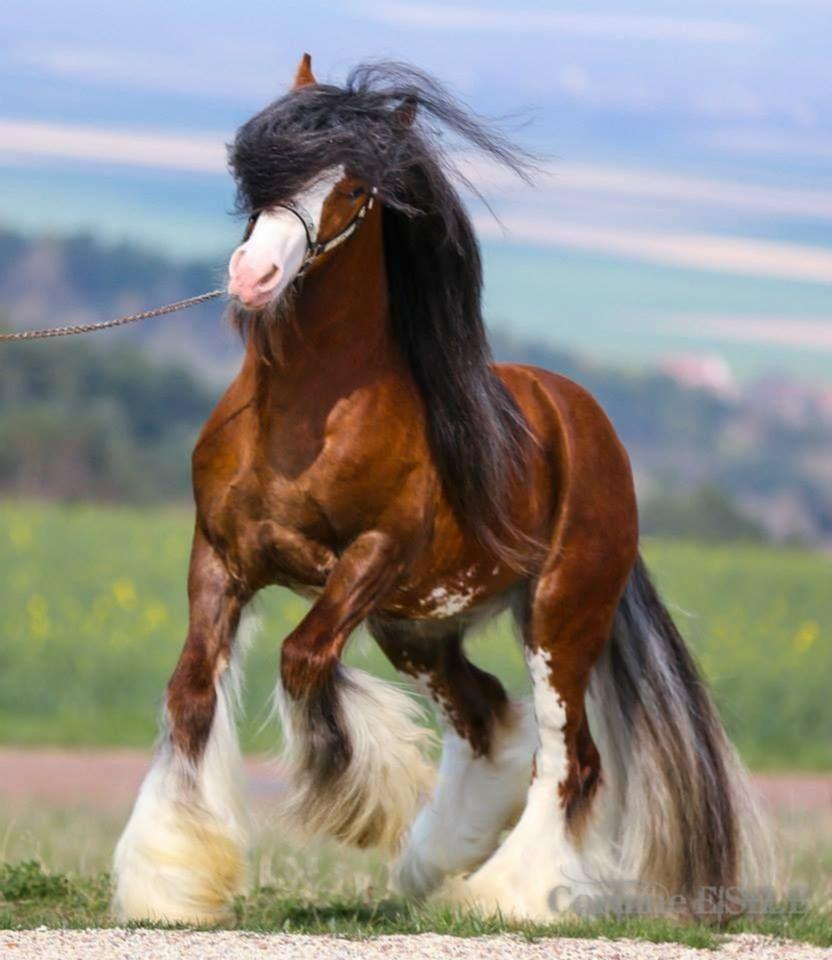horse: (107, 50, 785, 931)
